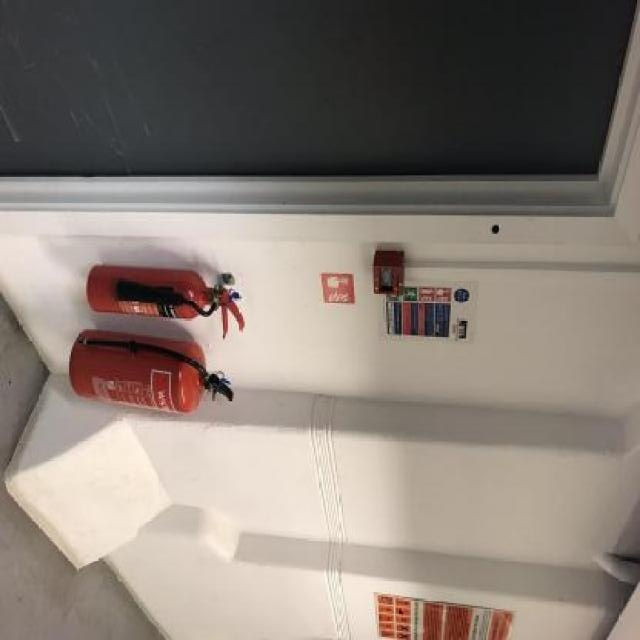fire extinguisher: (69, 328, 235, 414), (86, 265, 246, 339)
